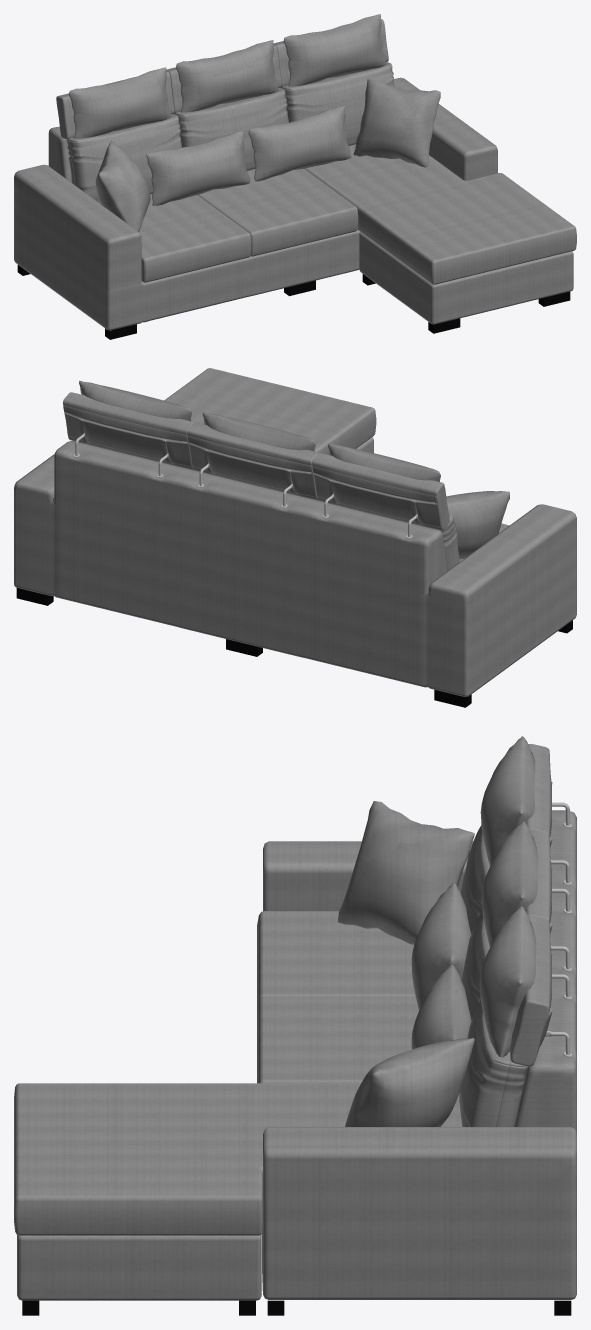
File: Sofa8.gltf
The picture shows the model from 3 angles, top to bottom: view 1: azimuth 30°, elevation 25°; view 2: azimuth 150°, elevation 25°; view 3: azimuth 270°, elevation 25°; orthographic projection. The views are drawn at different scales.
Visible parts, largest first — view 1: Cloth_A, Foot; view 2: Cloth_A, Foot, Iron, White; view 3: Cloth_A, Iron, Foot.
Boxes of the visible parts, x1,y1,x2,y2 form: Cloth_A: [14, 14, 576, 330]; Foot: [17, 265, 570, 339]; Cloth_A: [14, 368, 576, 696]; Foot: [16, 588, 572, 707]; Iron: [73, 433, 418, 538]; White: [65, 412, 436, 504]; Cloth_A: [14, 736, 576, 1300]; Iron: [545, 802, 572, 1056]; Foot: [22, 1300, 571, 1315].
Bounding box in the file's own units: 2.21 × 0.9918 × 1.67.
